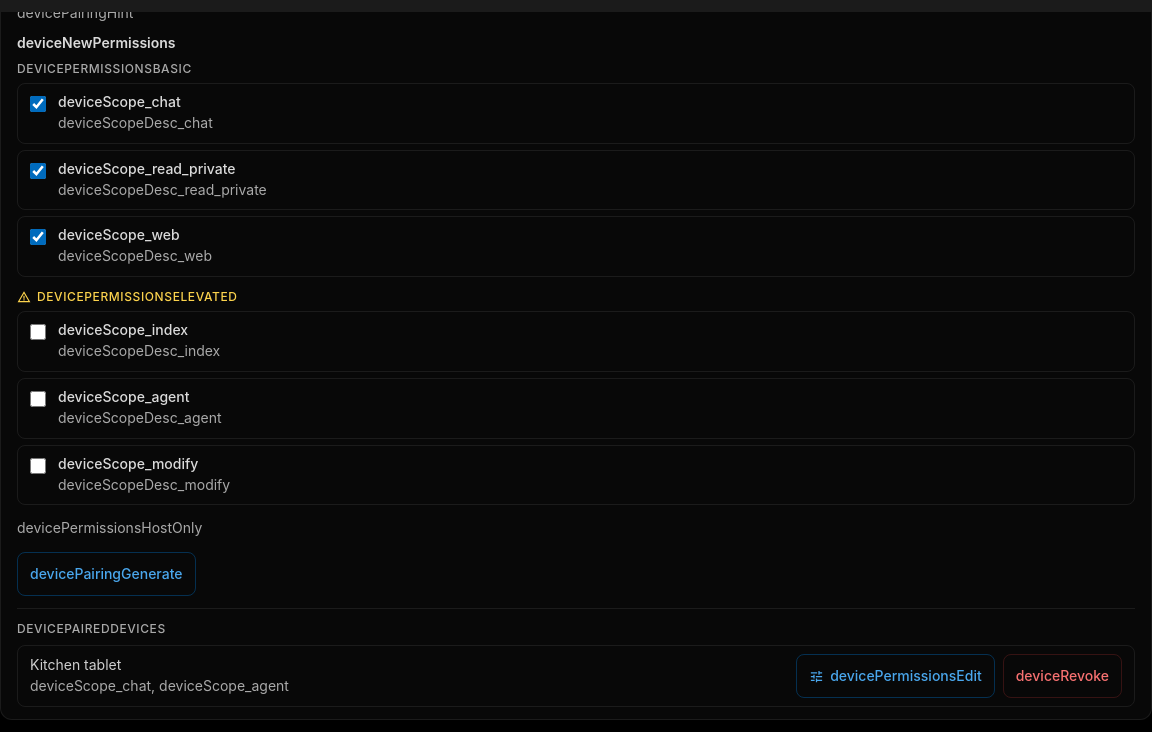
Test: DevicePairingCard › per-device permissions › saves removals without a confirmation and reports a failed change
(page scrolled)
Click the button with aria-label "devicePermissionsFor Kitchen tablet" at x=895, y=676, box [796,654,995,698]
(page scrolled)
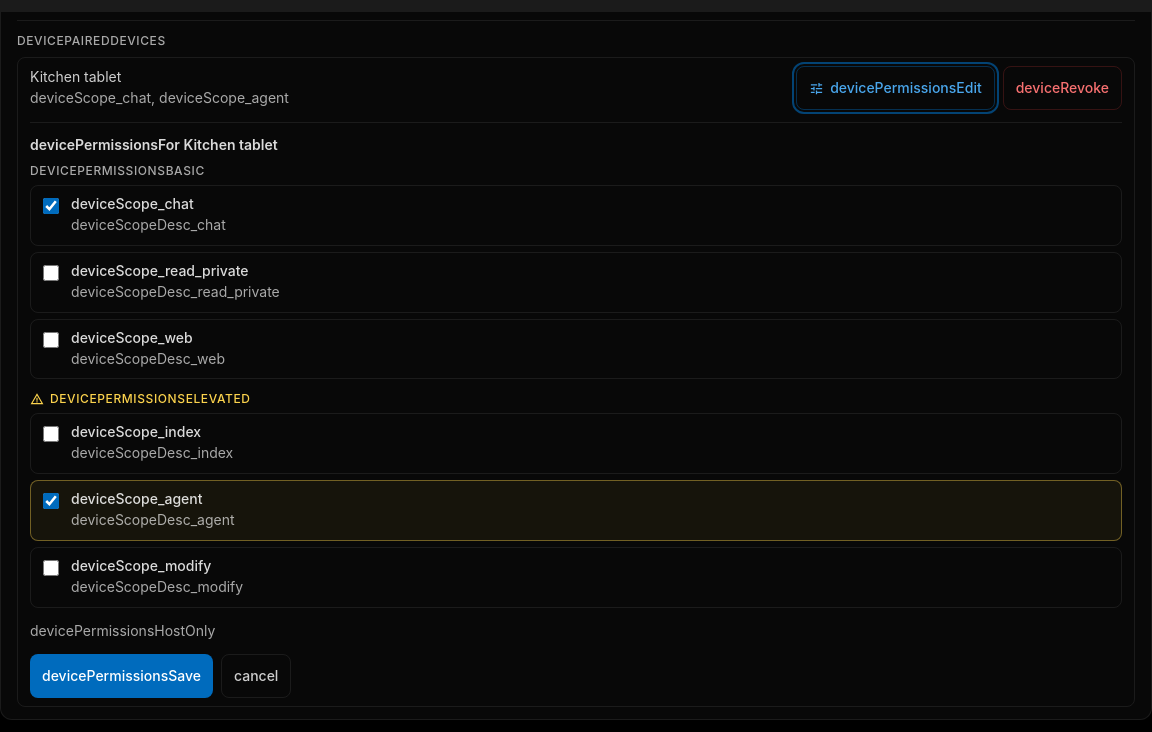
Click the checkbox labelled "deviceScope_agent deviceScopeDesc_agent" at x=51, y=501, box [43,493,59,509]
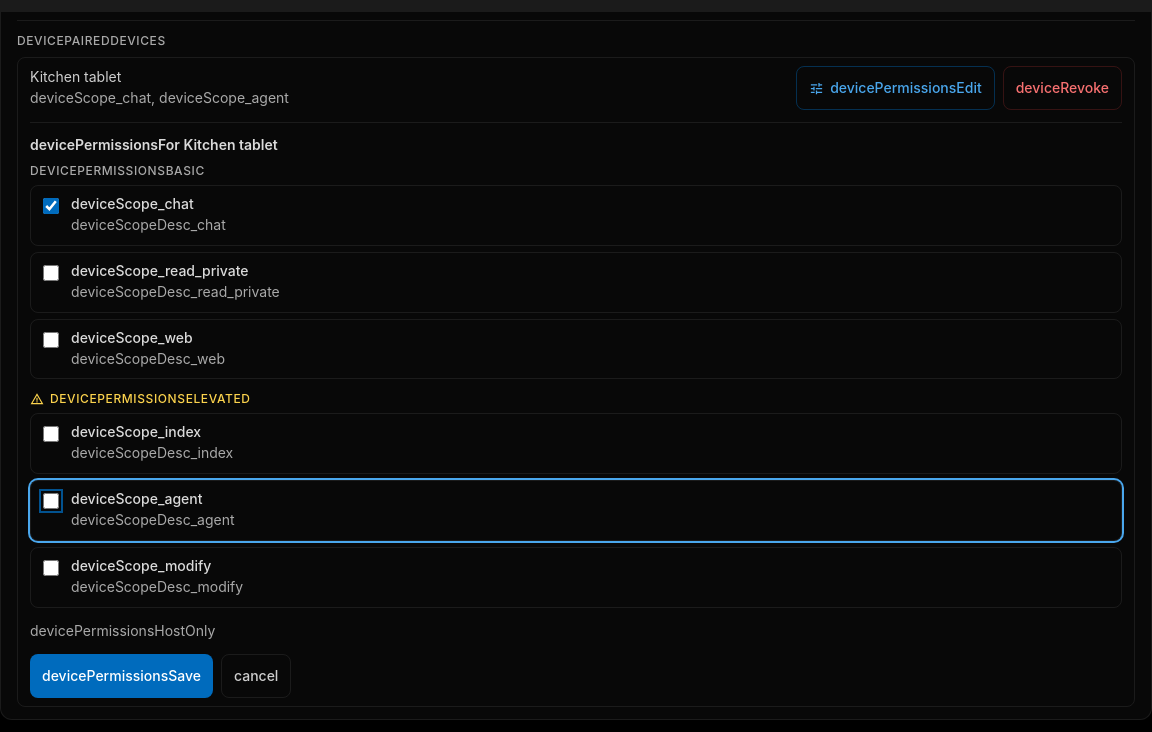
Click the button "devicePermissionsSave" at x=122, y=676, box [30,654,213,698]
(page scrolled)
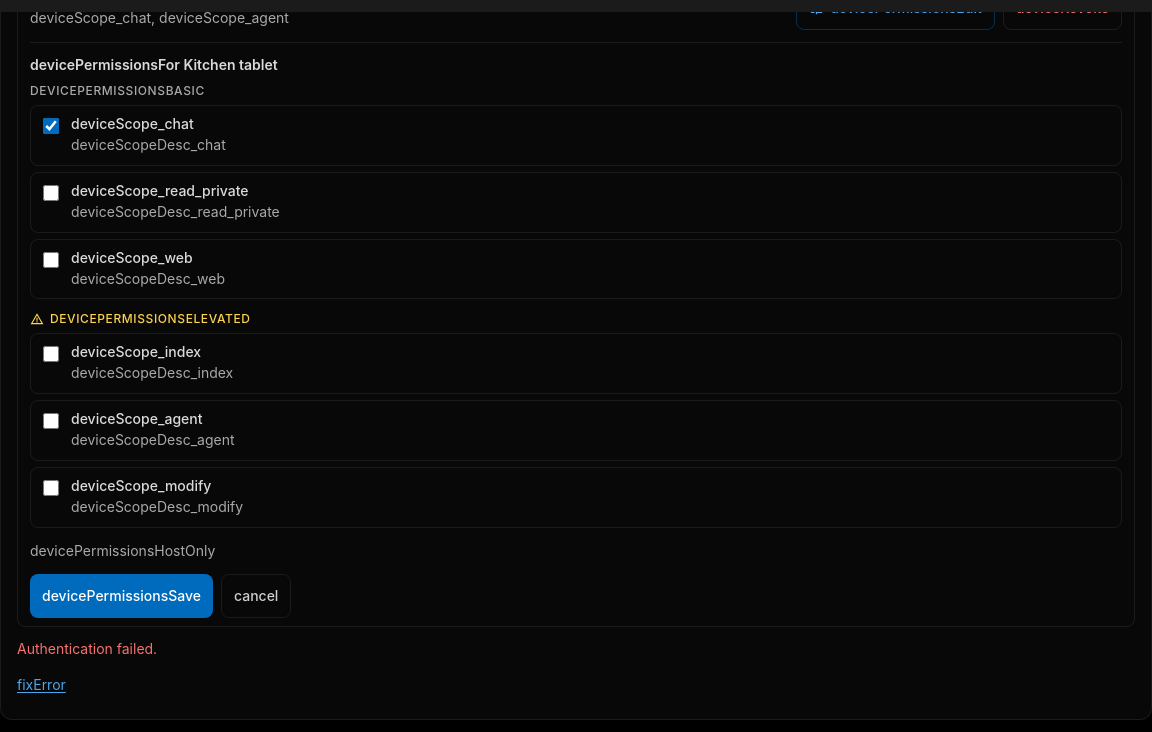
Now the message "Authentication failed. fixError" is shown, box [17,640,157,707]
